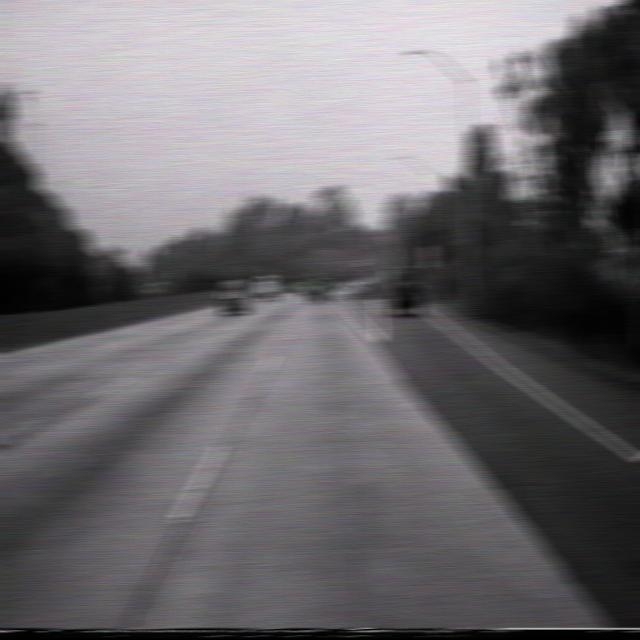speedLimit45: (421, 245, 436, 267)
